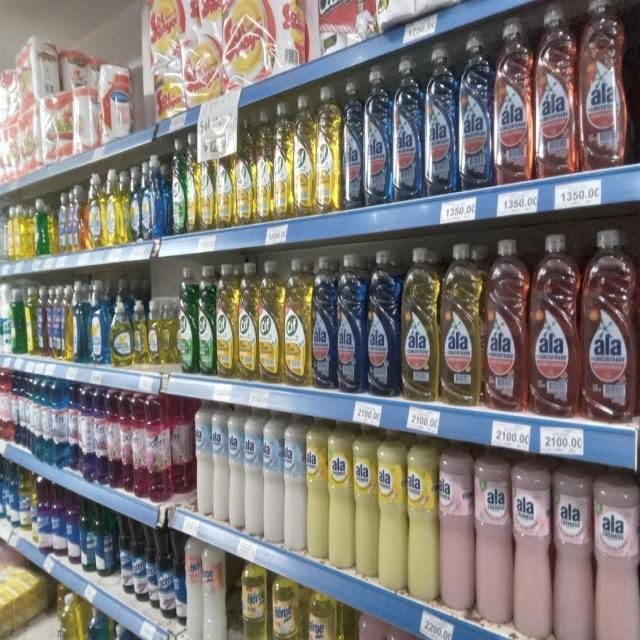ala_conc_amarillo: (441, 240, 482, 407), (401, 245, 439, 402)
ala_conc_azul: (458, 29, 493, 190), (366, 247, 399, 398), (425, 43, 457, 197), (393, 55, 423, 201), (337, 252, 365, 394), (364, 66, 392, 206), (312, 254, 336, 390), (342, 78, 364, 210)
ala_conc_rojo: (582, 227, 636, 423), (530, 231, 580, 420), (579, 0, 630, 171), (484, 237, 527, 413), (534, 3, 577, 178), (494, 17, 533, 185)
ala_crem_amarillo: (378, 428, 406, 594), (328, 421, 353, 571), (354, 424, 377, 579), (306, 418, 328, 561)
ala_crem_blanco: (244, 411, 262, 538), (228, 410, 244, 531), (212, 404, 228, 524)
ala_crem_rosado: (594, 472, 639, 640), (513, 456, 552, 640), (553, 465, 593, 640), (474, 450, 512, 628)
cif_conc_bot_amarilla: (284, 256, 311, 388), (316, 85, 341, 214), (259, 259, 283, 384), (294, 94, 315, 218), (216, 263, 238, 379), (238, 260, 258, 382), (274, 101, 293, 220), (236, 112, 255, 226), (256, 108, 273, 223), (216, 129, 235, 229), (199, 132, 215, 231), (186, 133, 198, 233)
cif_conc_botella_verde: (198, 264, 216, 376), (171, 136, 185, 236)
heroe: (203, 543, 227, 640), (240, 562, 268, 640), (271, 574, 304, 640), (184, 538, 202, 639), (308, 591, 338, 640), (355, 613, 388, 640)
magistral_con_amarillo: (110, 276, 132, 368), (86, 171, 104, 249), (132, 298, 146, 366), (147, 298, 161, 366)
magistral_con_azul: (88, 278, 109, 366), (142, 157, 152, 241), (130, 165, 140, 243)
